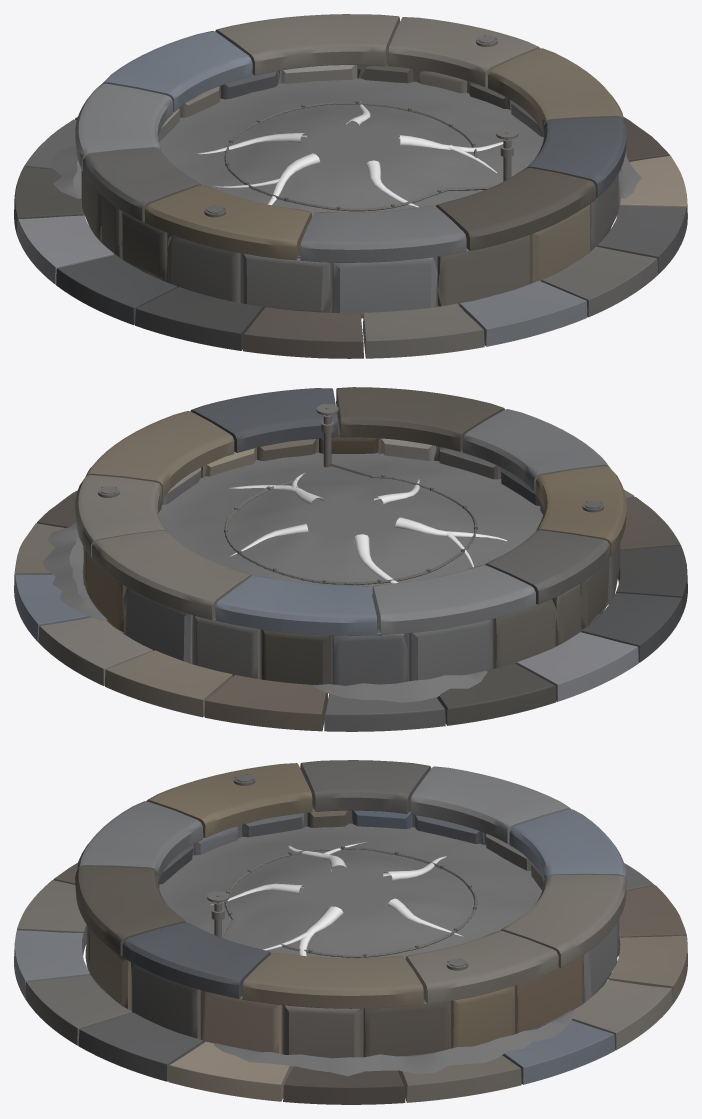
Rendered from TreeBed_Birch3_LOD0.glb.
3 renders of one model, top to bottom at view 1: azimuth 30°, elevation 25°; view 2: azimuth 150°, elevation 25°; view 3: azimuth 270°, elevation 25°, orthographic.
Parts seen in each view (by area): view 1: TB_Birch3_Ring_LOD0, TB_Birch3_Apron_LOD0, TB_Birch3_Soil_LOD0, TB_Birch3_Metal_LOD0, TB_Birch3_Roots_LOD0, TB_Birch3_Sand_LOD0; view 2: TB_Birch3_Ring_LOD0, TB_Birch3_Apron_LOD0, TB_Birch3_Soil_LOD0, TB_Birch3_Sand_LOD0, TB_Birch3_Metal_LOD0, TB_Birch3_Roots_LOD0; view 3: TB_Birch3_Ring_LOD0, TB_Birch3_Apron_LOD0, TB_Birch3_Soil_LOD0, TB_Birch3_Sand_LOD0, TB_Birch3_Metal_LOD0, TB_Birch3_Roots_LOD0.
Boxes of the visible parts, bbox=[...] form: TB_Birch3_Ring_LOD0: bbox=[75, 14, 626, 318]; TB_Birch3_Apron_LOD0: bbox=[14, 116, 687, 358]; TB_Birch3_Soil_LOD0: bbox=[159, 78, 543, 216]; TB_Birch3_Metal_LOD0: bbox=[204, 35, 518, 217]; TB_Birch3_Roots_LOD0: bbox=[195, 101, 503, 207]; TB_Birch3_Sand_LOD0: bbox=[51, 144, 641, 198]; TB_Birch3_Ring_LOD0: bbox=[75, 387, 626, 685]; TB_Birch3_Apron_LOD0: bbox=[14, 489, 687, 731]; TB_Birch3_Soil_LOD0: bbox=[158, 452, 542, 625]; TB_Birch3_Sand_LOD0: bbox=[42, 522, 487, 702]; TB_Birch3_Metal_LOD0: bbox=[98, 404, 603, 584]; TB_Birch3_Roots_LOD0: bbox=[228, 472, 507, 583]; TB_Birch3_Ring_LOD0: bbox=[75, 760, 626, 1058]; TB_Birch3_Apron_LOD0: bbox=[14, 862, 687, 1104]; TB_Birch3_Soil_LOD0: bbox=[159, 823, 542, 958]; TB_Birch3_Sand_LOD0: bbox=[214, 1010, 575, 1076]; TB_Birch3_Metal_LOD0: bbox=[207, 773, 477, 970]; TB_Birch3_Roots_LOD0: bbox=[210, 842, 462, 956].
Bounding box in the file's own units: 4.08 × 0.7413 × 4.08.
